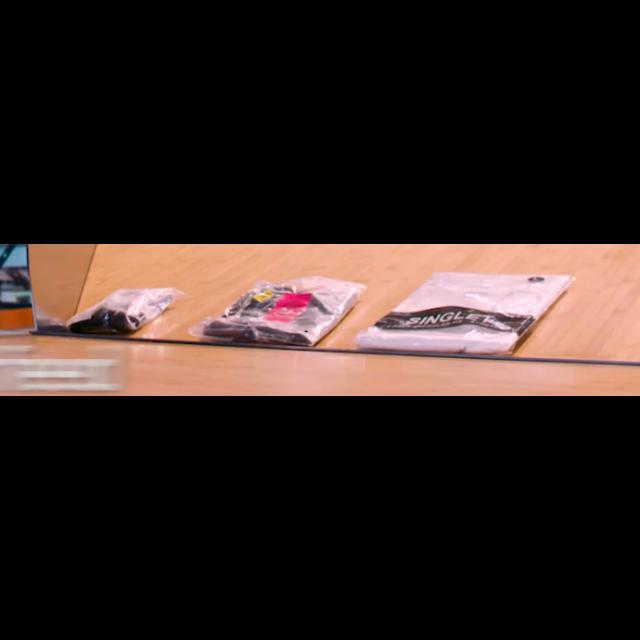mailer: (354, 269, 574, 359), (198, 277, 356, 345), (60, 288, 180, 334)
